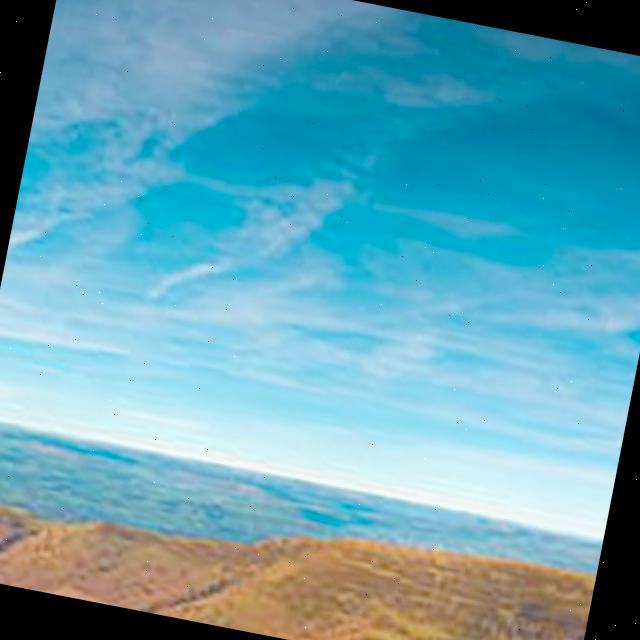Ci: (1, 1, 640, 503)
